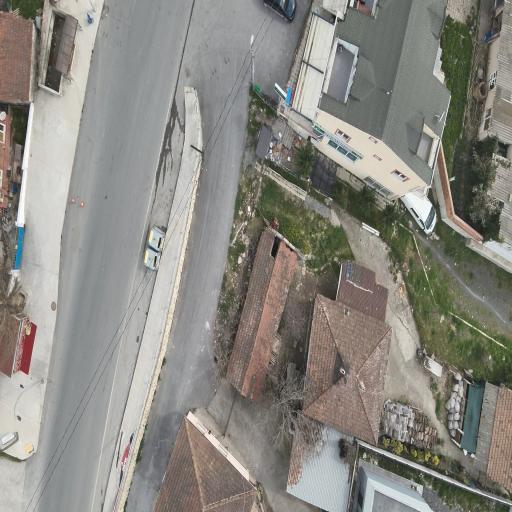car: (400, 192, 435, 234), (262, 0, 295, 20)
